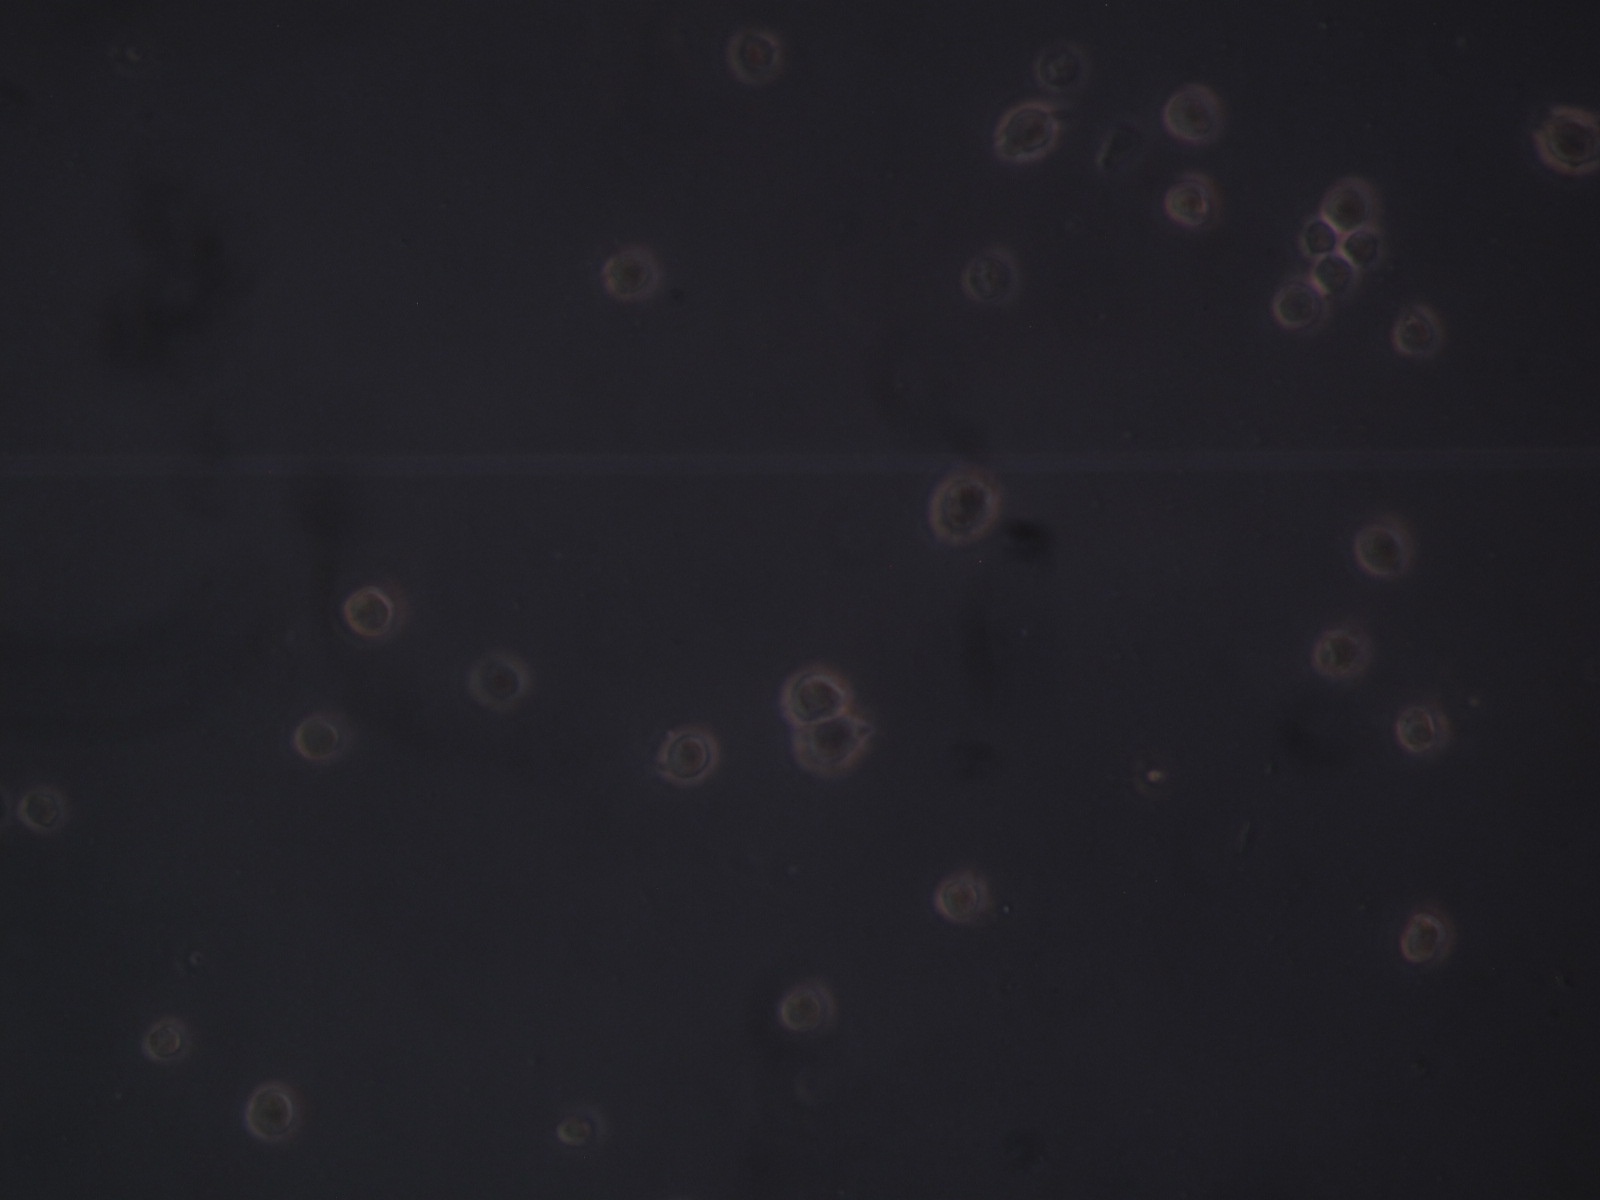hemo: (927, 471, 1002, 546), (781, 661, 850, 727), (1536, 105, 1600, 175), (1160, 79, 1228, 145), (993, 100, 1060, 163), (796, 716, 871, 771), (656, 724, 721, 785), (1271, 276, 1333, 337), (1320, 175, 1380, 233), (470, 653, 530, 708), (726, 26, 782, 84), (1353, 522, 1411, 579), (963, 248, 1017, 308), (1314, 628, 1374, 679), (344, 585, 404, 637), (1162, 171, 1214, 229), (246, 1085, 299, 1143), (603, 248, 660, 301), (1401, 910, 1454, 967), (1392, 305, 1445, 361), (782, 983, 835, 1035), (1038, 42, 1092, 92), (1397, 705, 1454, 753), (142, 1013, 191, 1065), (934, 872, 989, 918), (16, 787, 67, 832), (294, 715, 341, 761), (1311, 252, 1361, 297), (558, 1105, 606, 1148), (1343, 228, 1386, 274), (1298, 213, 1342, 255)
